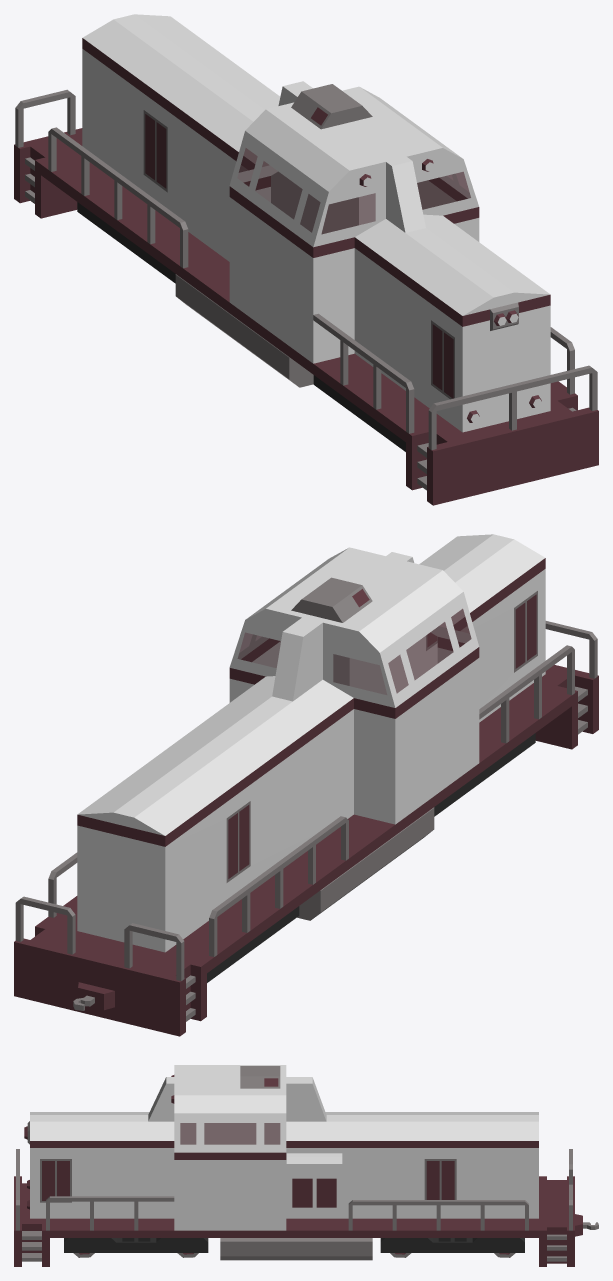
The model's file is freight-train.fbx.
3 renders of one model, top to bottom at view 1: azimuth 30°, elevation 25°; view 2: azimuth 150°, elevation 25°; view 3: azimuth 270°, elevation 25°, orthographic. The views are drawn at different scales.
Visible parts, largest first — view 1: freight-train-base, freight-train-wheel-frame_B, freight-train-wheel-frame_F; view 2: freight-train-base, freight-train-wheel-frame_F, freight-train-wheel-frame_B; view 3: freight-train-base, freight-train-wheel-frame_B, freight-train-wheel-frame_F.
Part boxes in pixels (x1=…): freight-train-base: x1=14, y1=14, x2=598, y2=505; freight-train-wheel-frame_B: x1=77, y1=202, x2=175, y2=283; freight-train-wheel-frame_F: x1=313, y1=375, x2=405, y2=451; freight-train-base: x1=14, y1=534, x2=598, y2=1036; freight-train-wheel-frame_F: x1=434, y1=733, x2=535, y2=816; freight-train-wheel-frame_B: x1=207, y1=906, x2=299, y2=982; freight-train-base: x1=14, y1=1065, x2=598, y2=1266; freight-train-wheel-frame_B: x1=380, y1=1238, x2=524, y2=1252; freight-train-wheel-frame_F: x1=64, y1=1238, x2=208, y2=1252.
Size of the model in its own units: 3.2 by 4.81 by 14.6.
